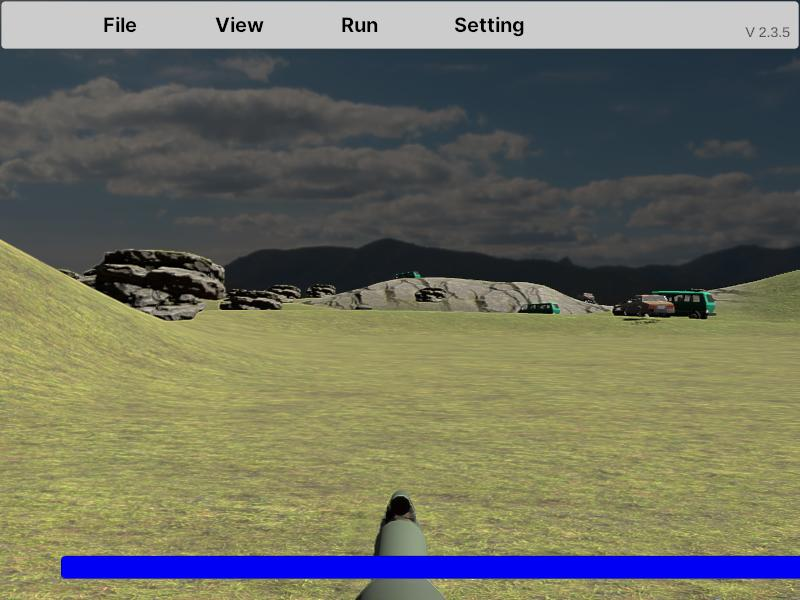car: (664, 291, 717, 319), (632, 295, 675, 318)
